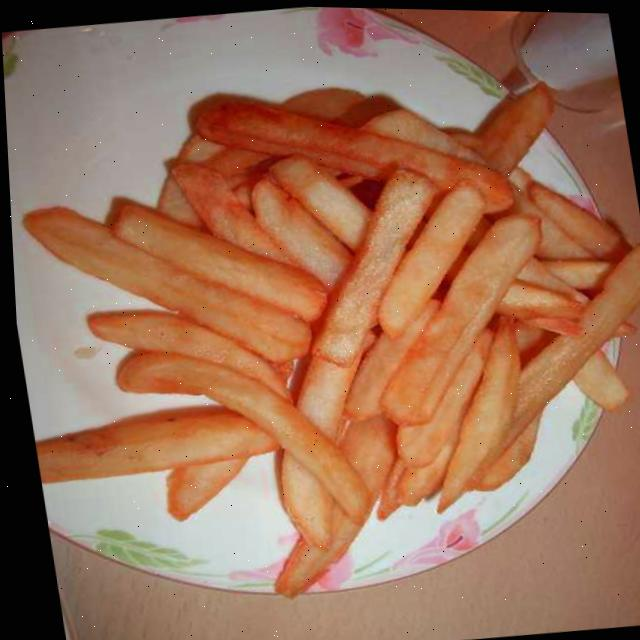炸货点心: (2, 41, 640, 630)
